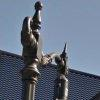Statue: (18, 2, 76, 94)
